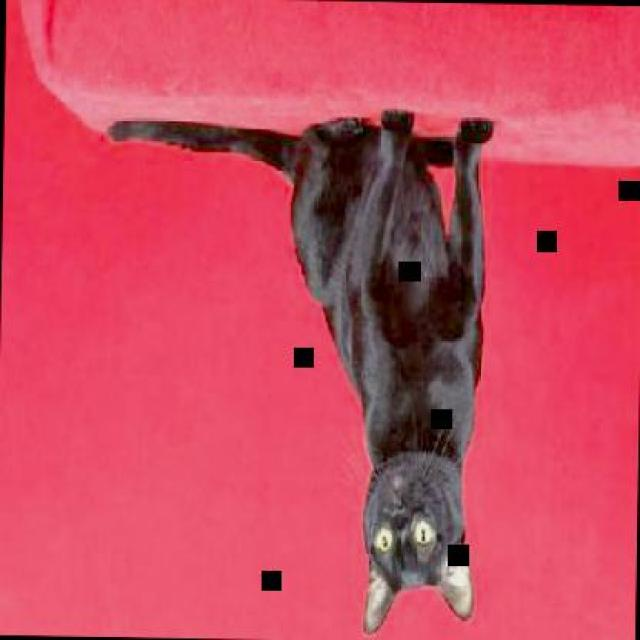cat: (99, 101, 493, 638)
